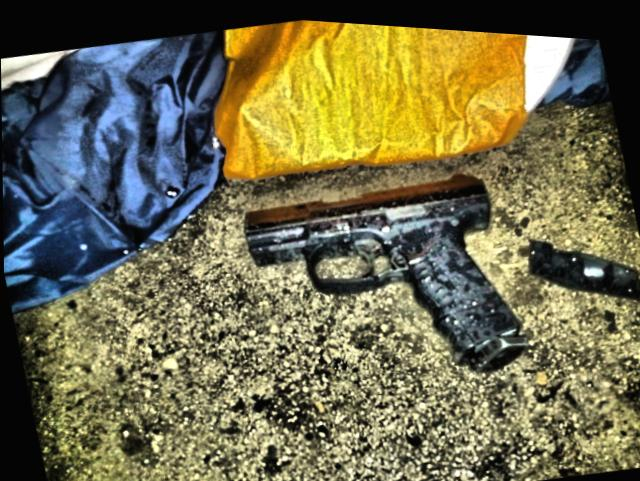pistol: (231, 145, 542, 411)
